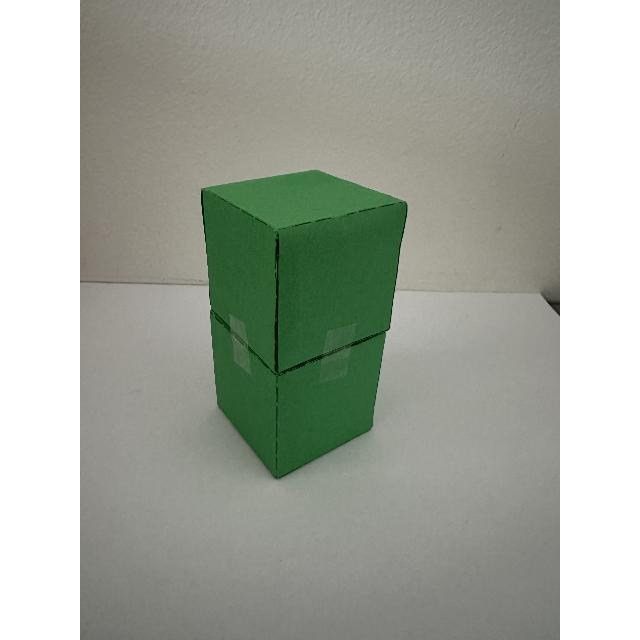green_cube: (195, 158, 423, 484)
